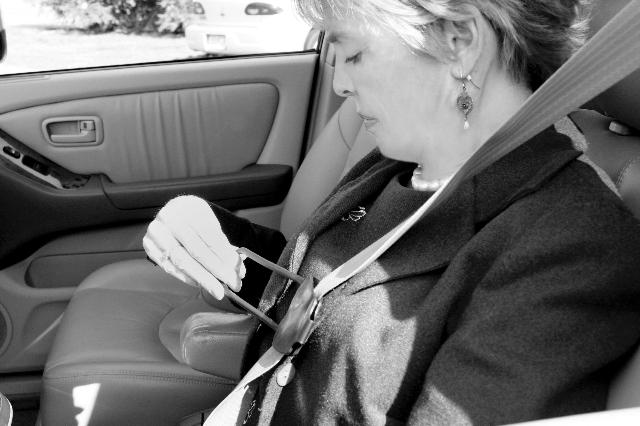Seatbelt: (200, 0, 640, 426)
